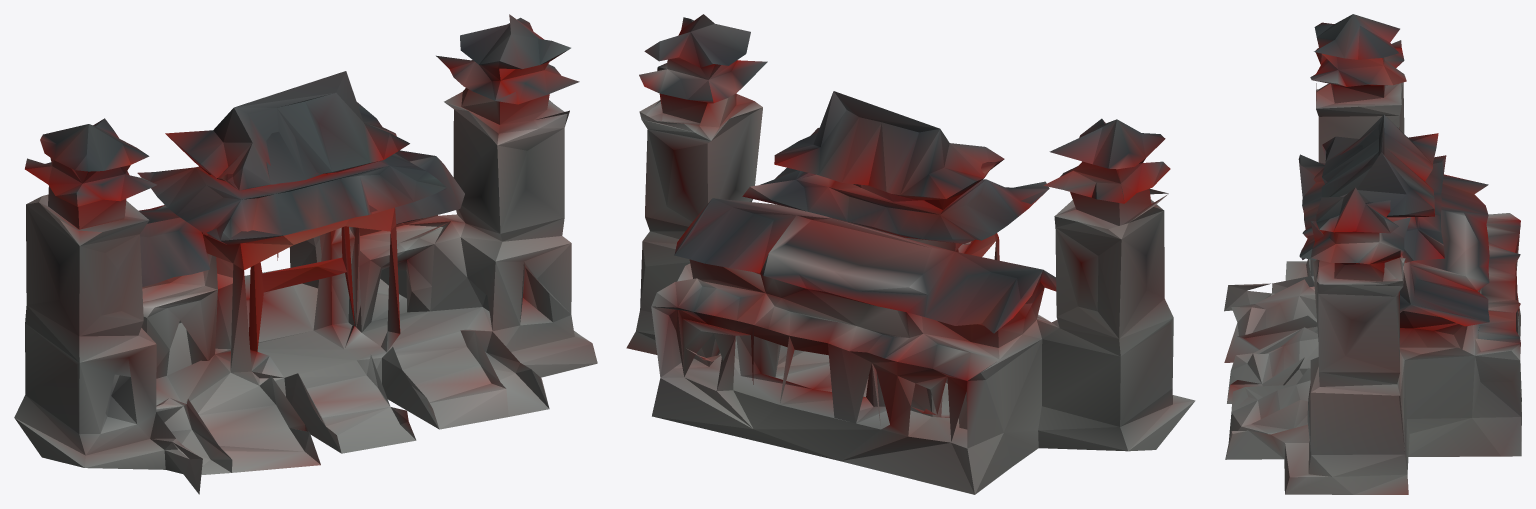
The model's file is sect_gate_grand.vc2.glb.
The picture shows the model from 3 angles, left to right: view 1: azimuth 30°, elevation 25°; view 2: azimuth 150°, elevation 25°; view 3: azimuth 270°, elevation 25°; orthographic projection. The views are drawn at different scales.
Visible parts, largest first — view 1: sect_gate_grand; view 2: sect_gate_grand; view 3: sect_gate_grand.
Boxes of the visible parts, x1,y1,x2,y2 form: sect_gate_grand: (14,14,597,494); sect_gate_grand: (626,14,1195,494); sect_gate_grand: (1224,14,1521,494).
Size of the model in its own units: 1.89 by 1.16 by 1.09.
